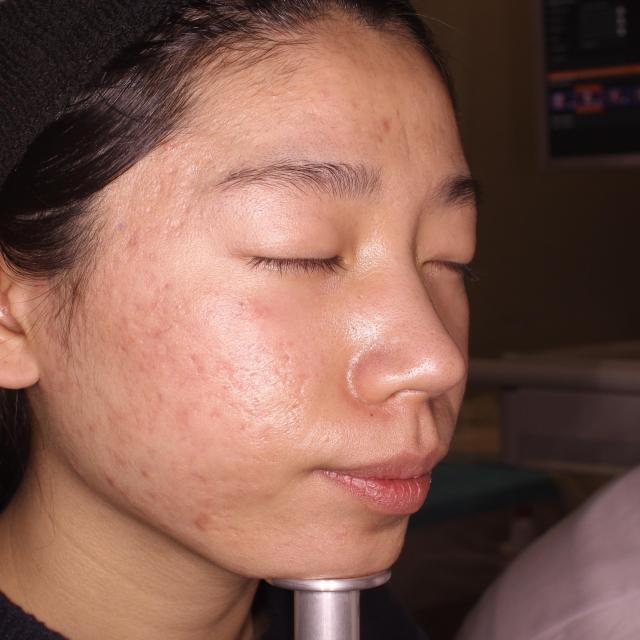comedone: (180, 504, 248, 542), (374, 106, 409, 167), (93, 464, 141, 499)
